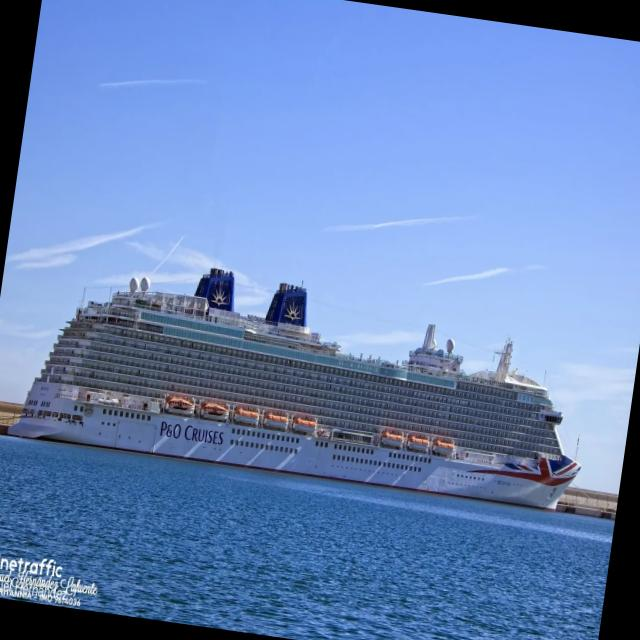Cruise: (10, 267, 581, 509)
